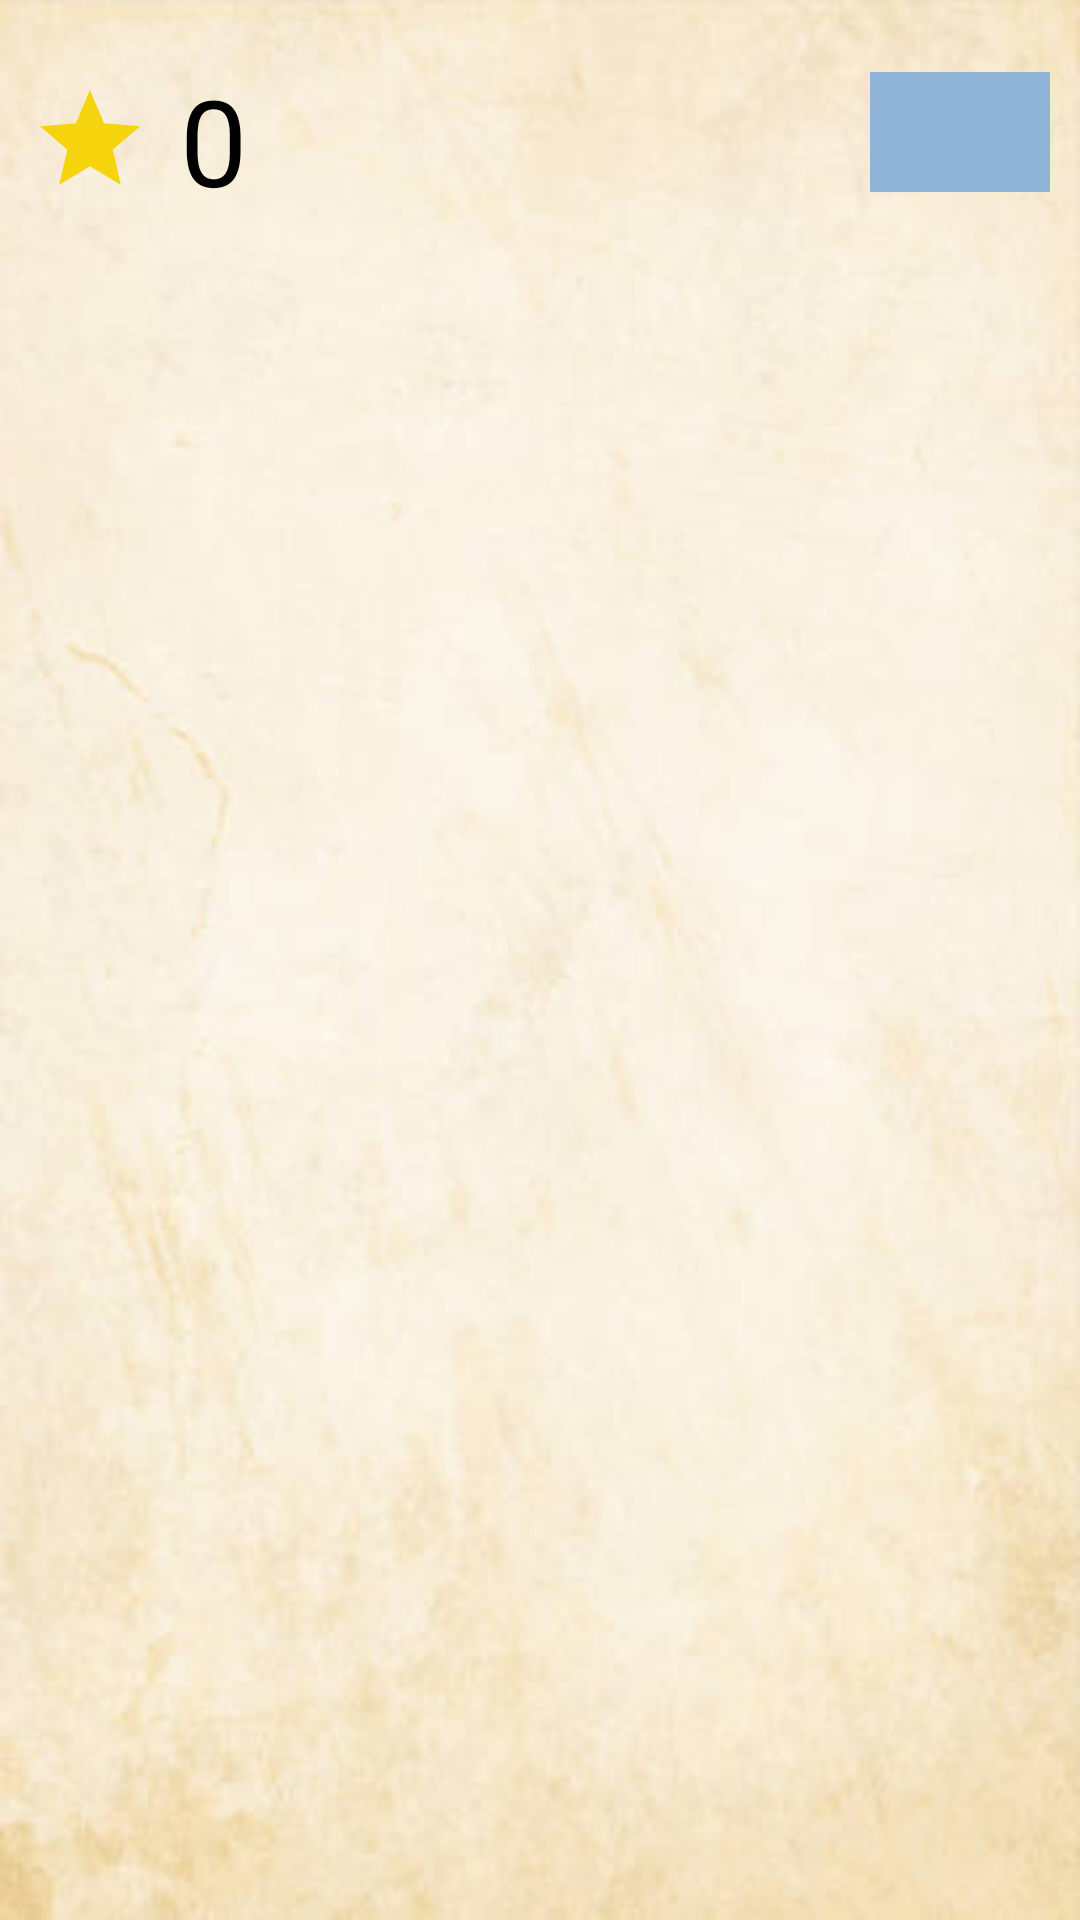

Screen size 1080px×1920px. Icon name, then its center in pixels as (x,y):
star: (90,137)
